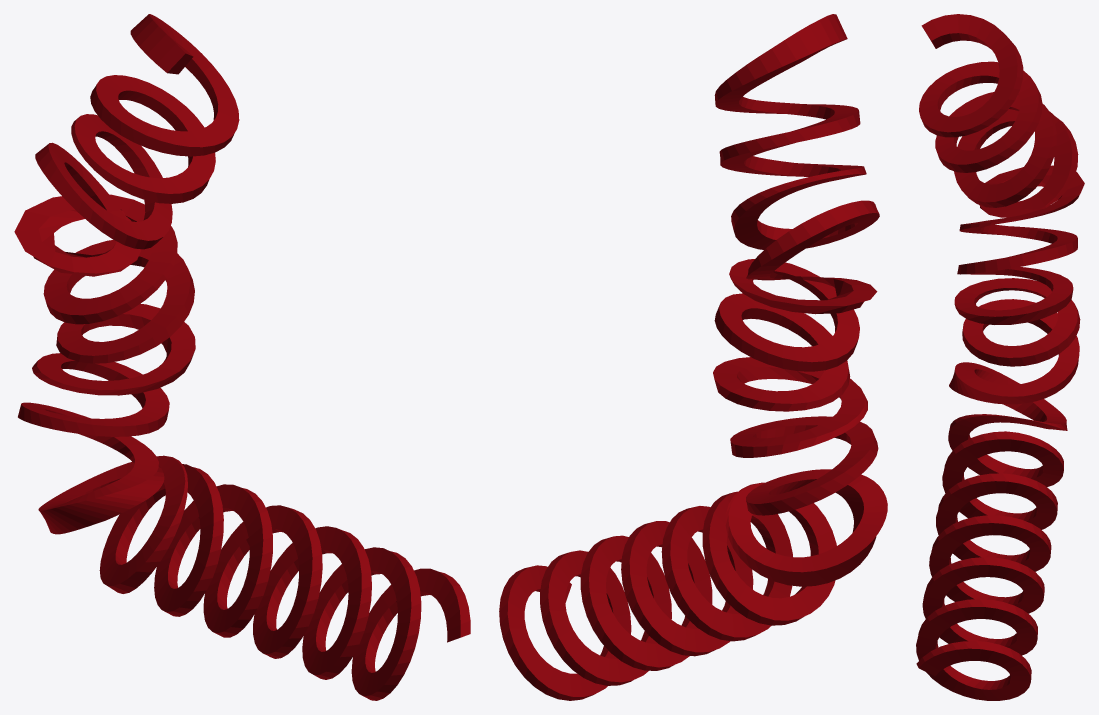
File: Phone_Cord.fbx
The picture shows the model from 3 angles, left to right: view 1: azimuth 30°, elevation 25°; view 2: azimuth 150°, elevation 25°; view 3: azimuth 270°, elevation 25°; orthographic projection. The views are drawn at different scales.
Visible parts, largest first — view 1: Plane; view 2: Plane; view 3: Plane.
Part boxes in pixels (x1,y1,x2,y2): Plane: (14, 14, 470, 700); Plane: (499, 14, 887, 700); Plane: (916, 14, 1084, 700).
Bounding box in the file's own units: 24207 × 42982 × 10999.
